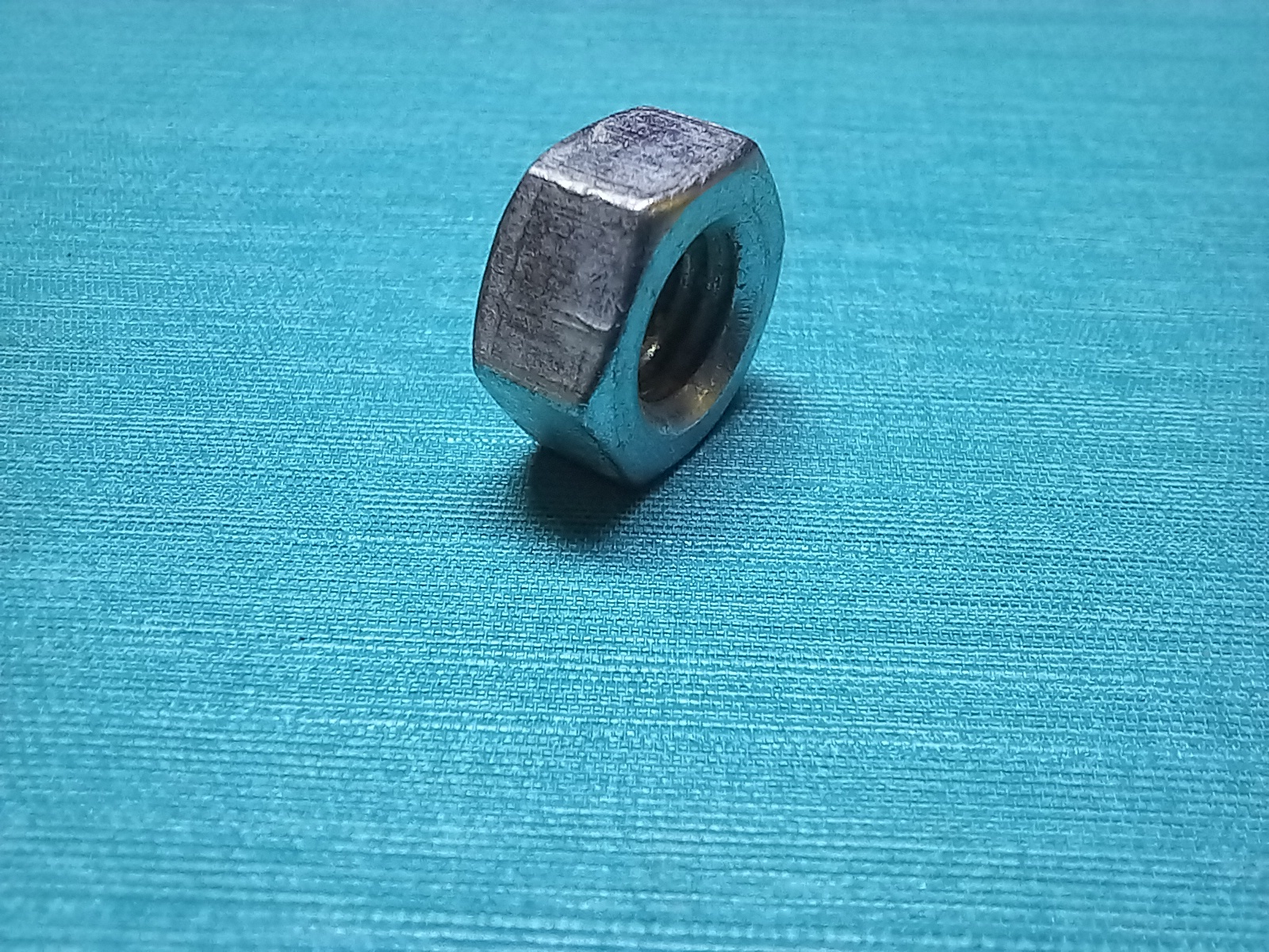nut: (412, 103, 847, 682)
